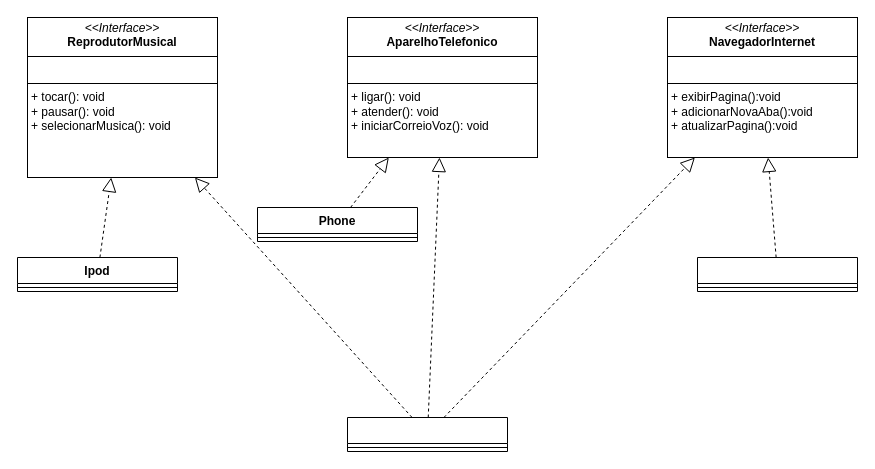
The diagram is 875 pixels wide and 469 high, and some of its shapes have lost their labels. Here are the shapes that lost their labels. From the top down, the centre of each, then its label:
At point (777, 274): "Internet".
At point (427, 434): "Iphone".
